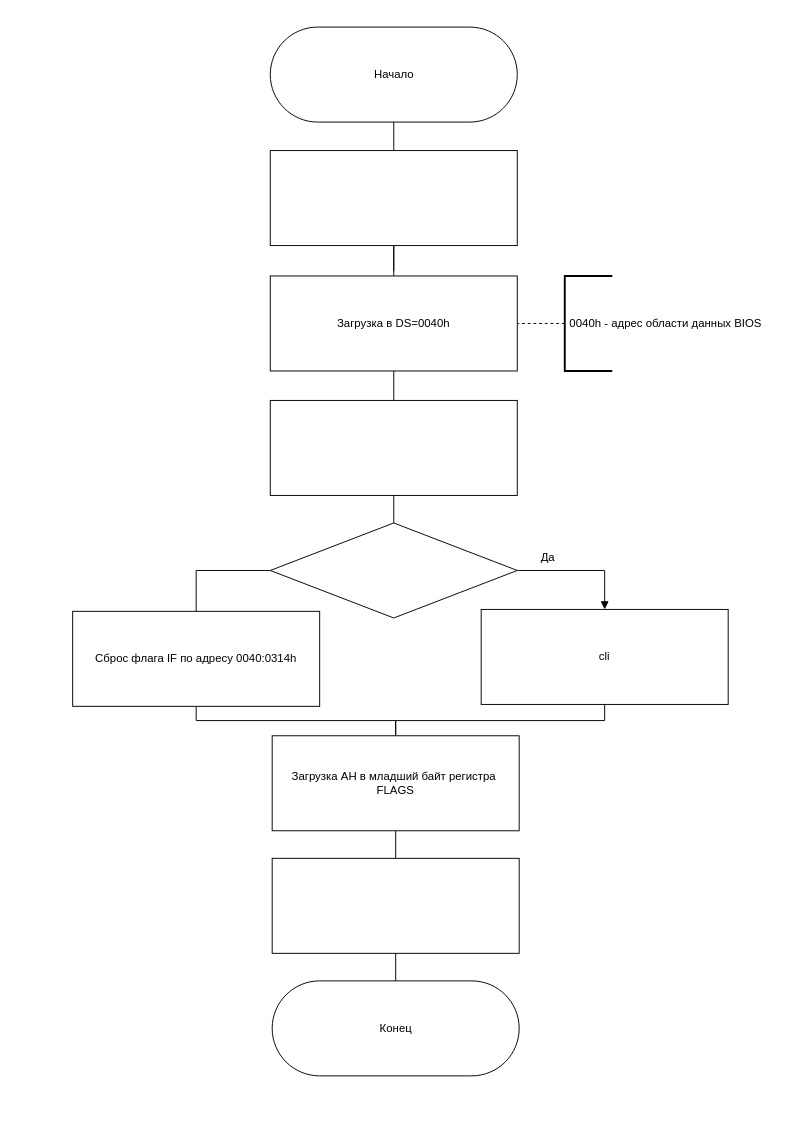
Some shapes in this 811 by 1141 pixel diagram are drawn without their labels. Each missing label, with the centre of its shape:
"Восстановление DS, AX" goes at [395,905].
"Загрузка в АH младшего байта регистра флагов" goes at [393,447].
"Сохранение DS, AX" goes at [393,198].
"Установлены ли флаг DF или старший бит флага IOPL в 0040:0314h?" goes at [393,570].
